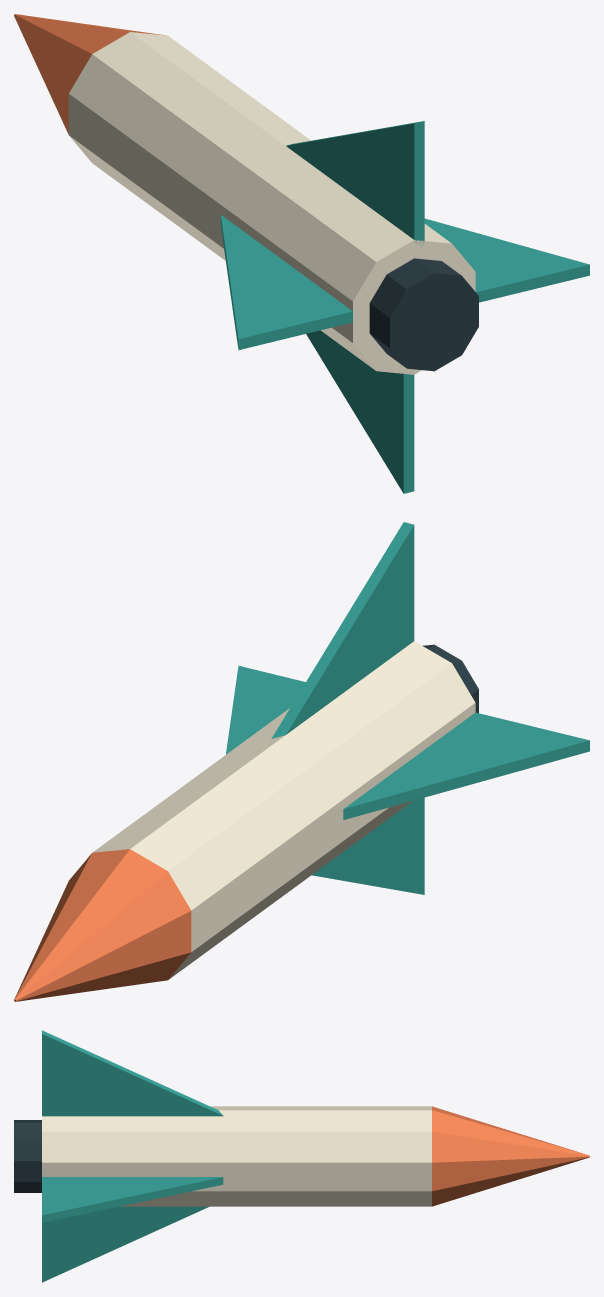
The model's file is missile.glb.
The picture shows the model from 3 angles, top to bottom: view 1: azimuth 30°, elevation 25°; view 2: azimuth 150°, elevation 25°; view 3: azimuth 270°, elevation 25°; orthographic projection. The views are drawn at different scales.
Parts seen in each view (by area): view 1: missile.Root_Cream, missile.Root_Teal, missile.Root_Dark, missile.Root_Orange; view 2: missile.Root_Cream, missile.Root_Teal, missile.Root_Orange, missile.Root_Dark; view 3: missile.Root_Cream, missile.Root_Teal, missile.Root_Orange, missile.Root_Dark.
Part boxes in pixels (<box>): missile.Root_Cream: <box>68,32,475,374</box>; missile.Root_Teal: <box>220,121,589,493</box>; missile.Root_Dark: <box>369,258,478,371</box>; missile.Root_Orange: <box>14,14,166,134</box>; missile.Root_Cream: <box>93,641,475,979</box>; missile.Root_Teal: <box>226,522,589,894</box>; missile.Root_Orange: <box>14,849,191,1001</box>; missile.Root_Dark: <box>422,644,478,713</box>; missile.Root_Cream: <box>42,1106,431,1206</box>; missile.Root_Teal: <box>42,1030,223,1282</box>; missile.Root_Orange: <box>432,1106,589,1206</box>; missile.Root_Dark: <box>14,1120,41,1192</box>.
Size of the model in its own units: 0.3 by 0.3 by 0.62.
